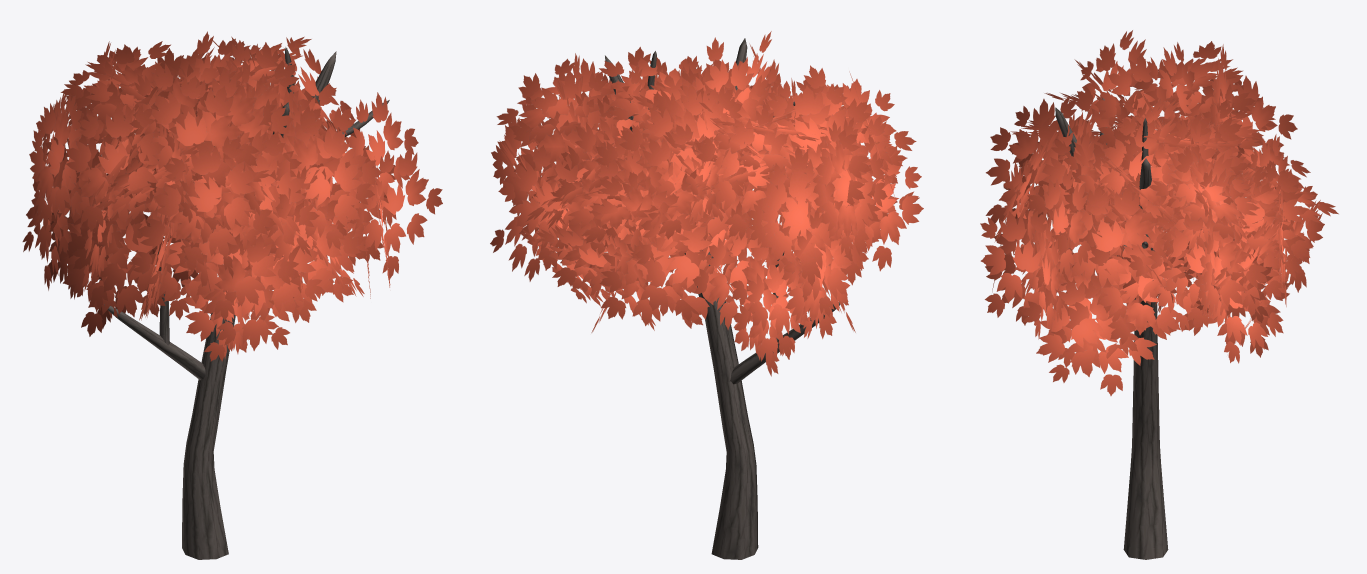
File: nispero.glb
3 renders of one model, left to right at view 1: azimuth 30°, elevation 25°; view 2: azimuth 150°, elevation 25°; view 3: azimuth 270°, elevation 25°, orthographic. The views are drawn at different scales.
Parts seen in each view (by area): view 1: nispero; view 2: nispero; view 3: nispero.
Part boxes in pixels (x1,y1,x2,y2): nispero: (22,31,442,559); nispero: (490,31,923,559); nispero: (980,30,1338,559).
Size of the model in its own units: 6.17 by 8 by 5.42.
Materials: 2 (2 with a texture image).
